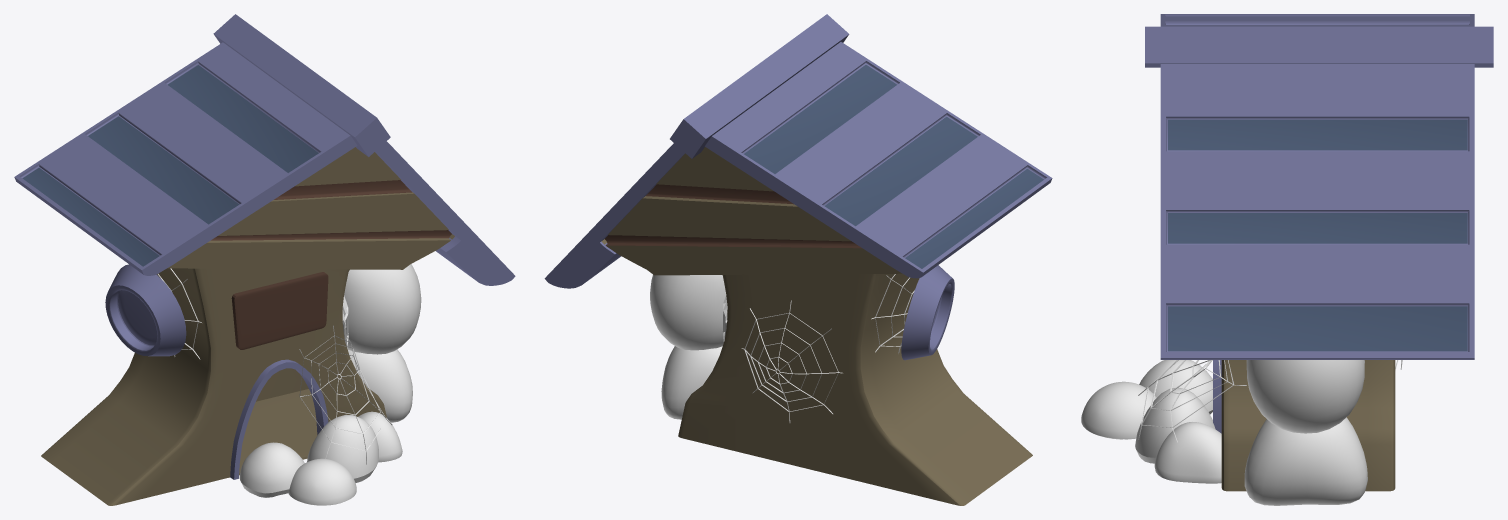
The model's file is Spider_House (1).fbx.
3 views of the same model, side by side, from view 1: azimuth 30°, elevation 25°; view 2: azimuth 150°, elevation 25°; view 3: azimuth 270°, elevation 25° (orthographic). The views are drawn at different scales.
Visible parts, largest first — view 1: Cube; view 2: Cube; view 3: Cube.
Part boxes in pixels (x1,y1,x2,y2): Cube: [14, 14, 515, 505]; Cube: [544, 14, 1052, 505]; Cube: [1081, 14, 1493, 505].
Bounding box in the file's own units: 209 × 189 × 159.
